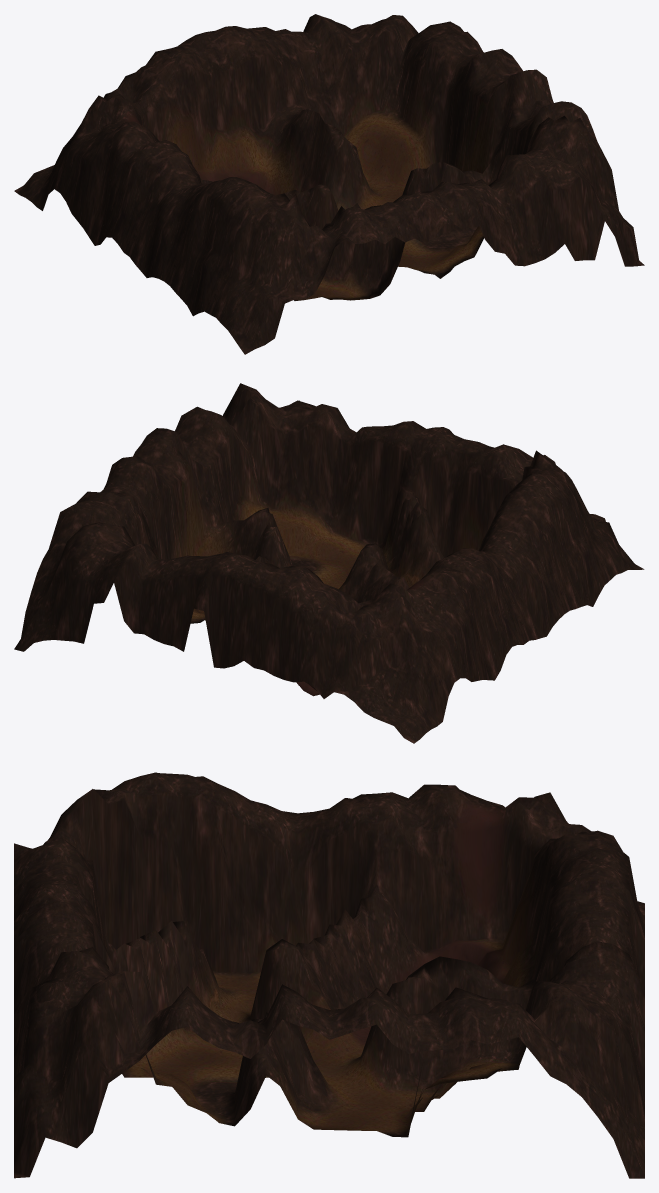
File: small-cave.glb
3 renders of one model, top to bottom at view 1: azimuth 30°, elevation 25°; view 2: azimuth 150°, elevation 25°; view 3: azimuth 270°, elevation 25°, orthographic. The views are drawn at different scales.
Bounding box in the file's own units: 20 × 8.22 × 20.
1 material, 1 textured.
